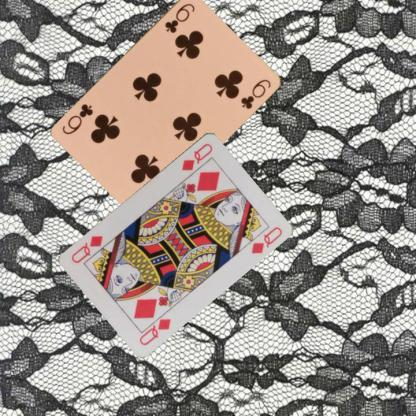6c: (162, 0, 196, 34)
Qd: (136, 307, 173, 347), (179, 140, 214, 172)
